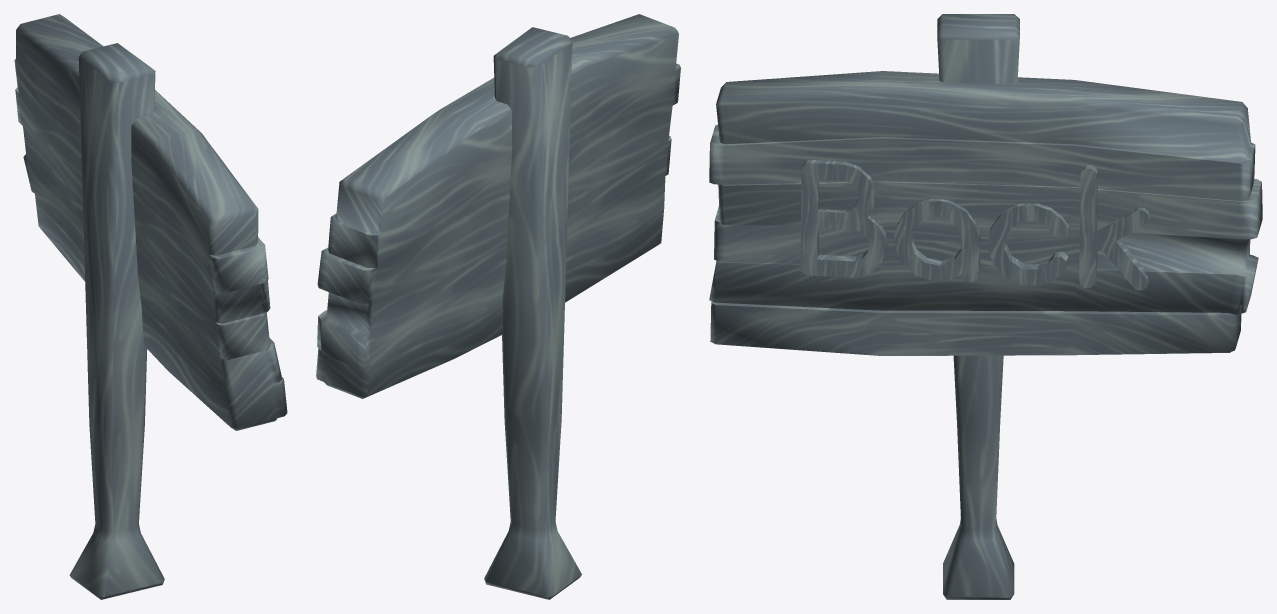
Rendered from BackSign.fbx.
3 renders of one model, left to right at view 1: azimuth 30°, elevation 25°; view 2: azimuth 150°, elevation 25°; view 3: azimuth 270°, elevation 25°, orthographic. The views are drawn at different scales.
Visible parts, largest first — view 1: Cube.001; view 2: Cube.001; view 3: Cube.001.
Boxes of the visible parts, x1,y1,x2,y2 form: Cube.001: [14, 14, 287, 599]; Cube.001: [316, 14, 680, 599]; Cube.001: [709, 14, 1262, 599].
Bounding box in the file's own units: 0.253 × 0.9837 × 0.8802.
